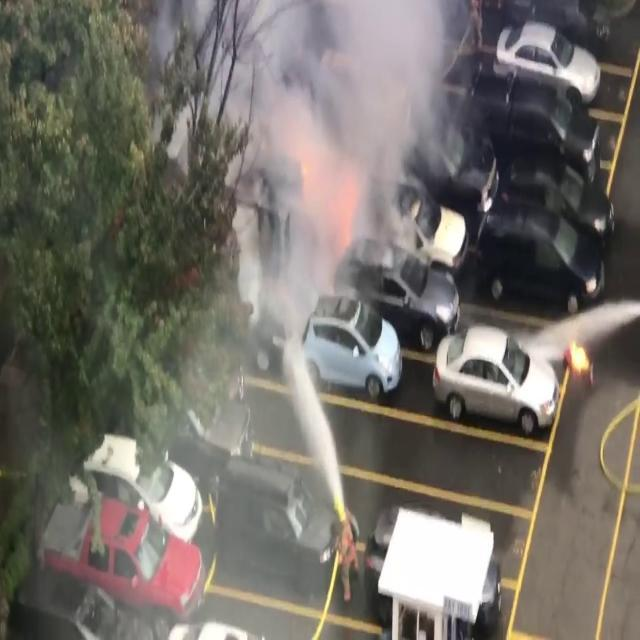Smoke: (236, 0, 482, 245)
